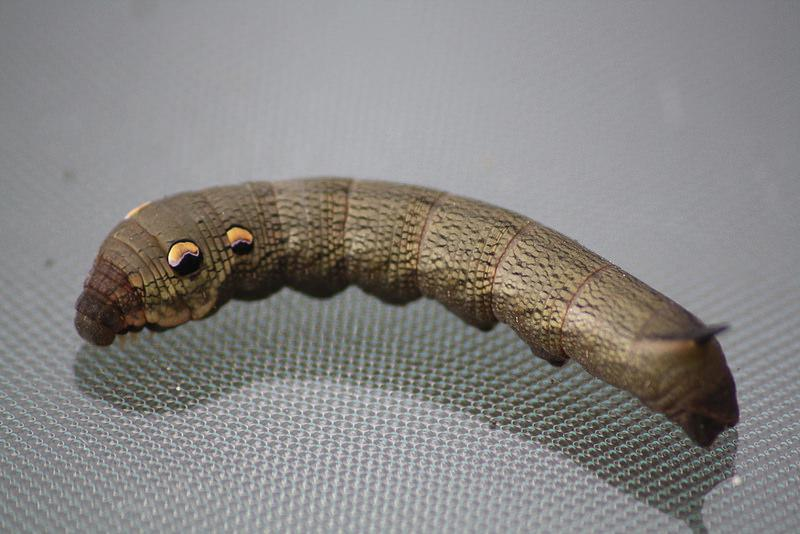grub: (67, 168, 775, 488)
